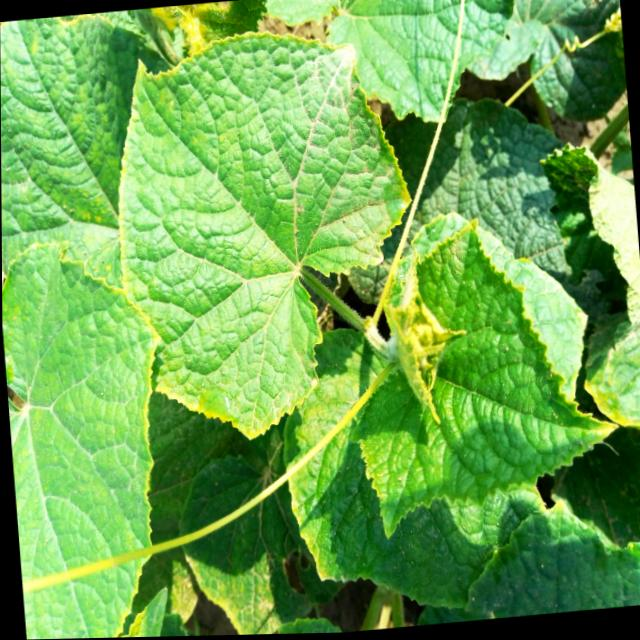Fresh-Leaf: (347, 217, 611, 536), (2, 239, 160, 639)
